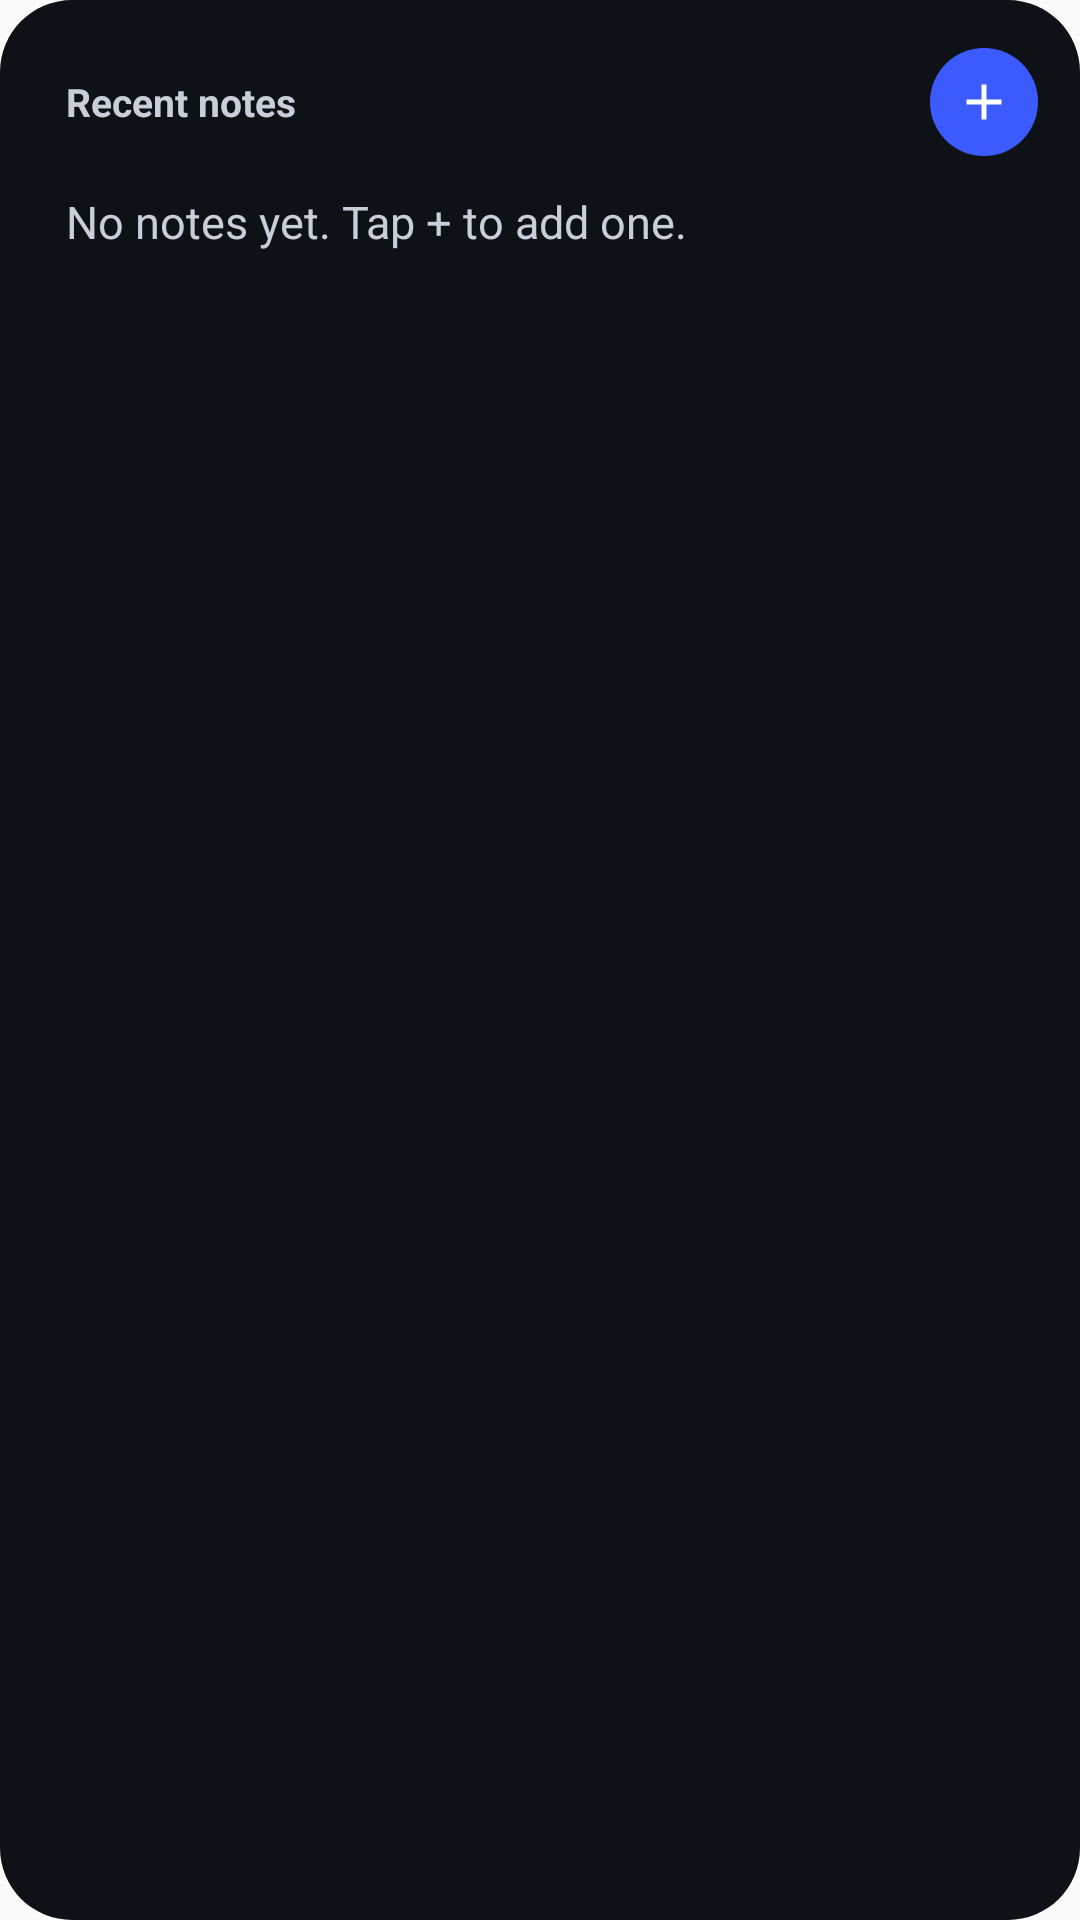

Icon bounding boxes for this 1080×1920 phone screenshot, format (x1, y1, x2, y2):
New note: (930, 48, 1038, 156)
